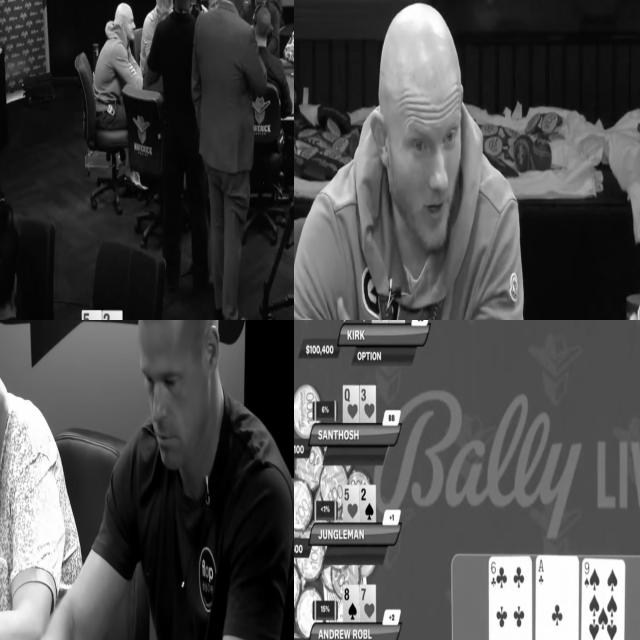2S: (360, 483, 376, 521)
3H: (360, 386, 376, 422)
5H: (342, 484, 360, 522), (82, 310, 101, 320)
7H: (361, 586, 377, 622)
8S: (342, 584, 360, 621)
QH: (343, 384, 360, 420)
